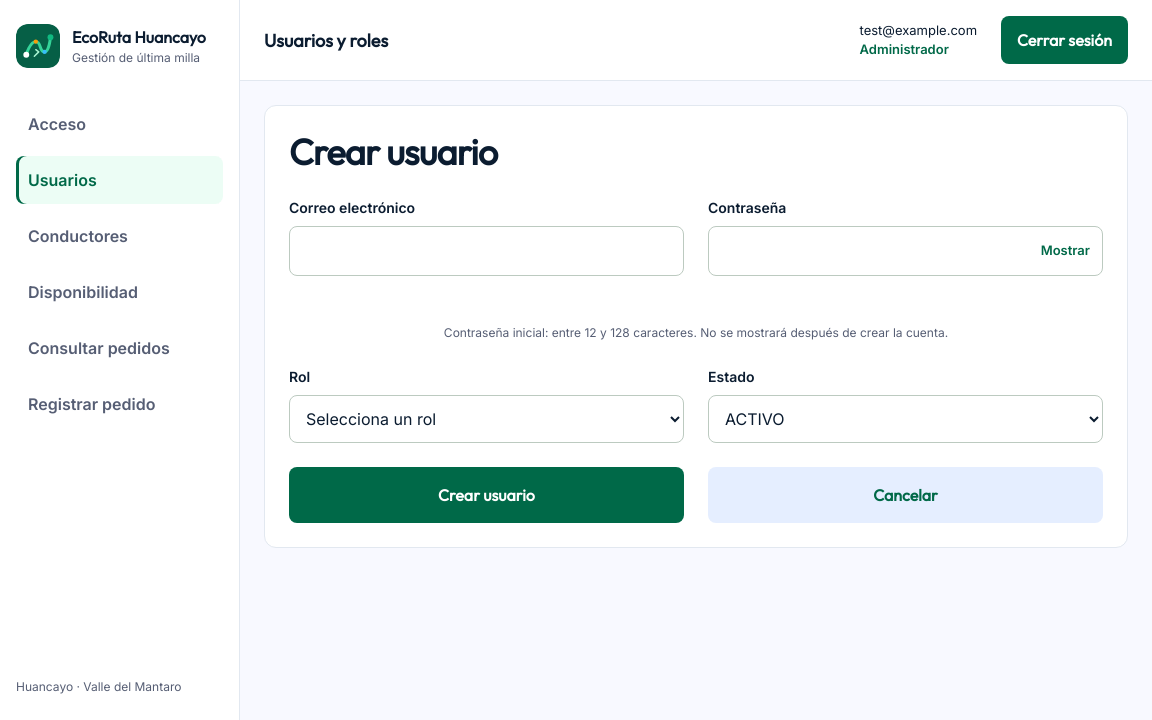
Scenario: US-003 interfaz › valida creación sin enviar datos incompletos
Click the button "Crear usuario". click: (486, 495)
box: [289,467,684,523]
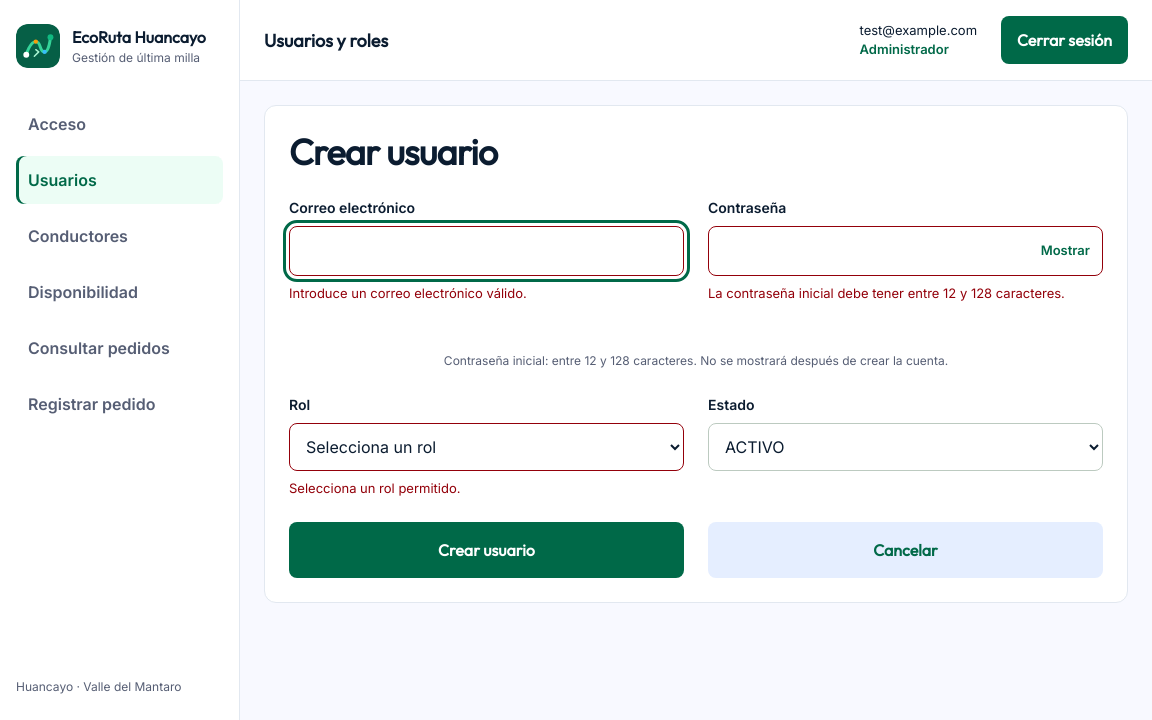
expect the text "Introduce un correo electrónico válido." is shown: met, box [289,285,527,301]
expect the text "Selecciona un rol permitido." is shown: met, box [289,480,460,496]
